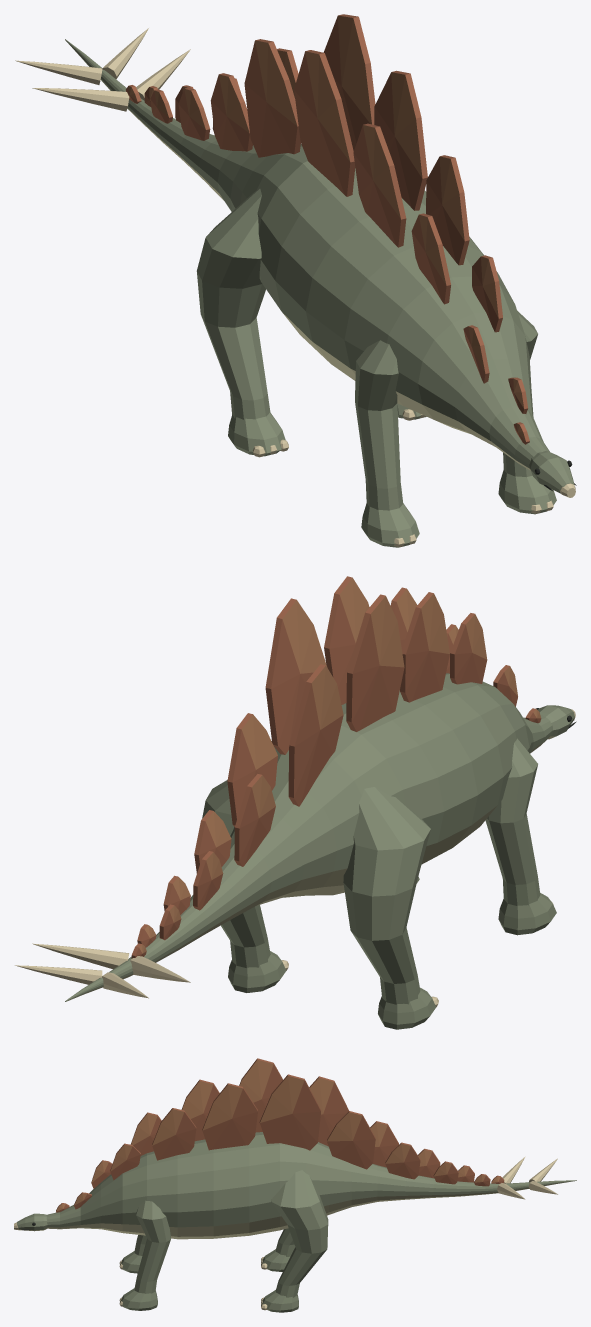
3 views of the same model, one above another, from view 1: azimuth 30°, elevation 25°; view 2: azimuth 150°, elevation 25°; view 3: azimuth 270°, elevation 25° (orthographic). The views are drawn at different scales.
Parts seen in each view (by area): view 1: axial-body-neck-head-tail, nineteen-staggered-dorsal-plates, hind-leg-left, fore-leg-left, four-tail-spikes-beak-and-blunt-toenails, fore-leg-right; view 2: axial-body-neck-head-tail, nineteen-staggered-dorsal-plates, hind-leg-left, fore-leg-left, hind-leg-right, four-tail-spikes-beak-and-blunt-toenails; view 3: axial-body-neck-head-tail, nineteen-staggered-dorsal-plates, hind-leg-right, fore-leg-right, four-tail-spikes-beak-and-blunt-toenails, hind-leg-left, fore-leg-left.
Boxes of the visible parts, bbox=[...] form: axial-body-neck-head-tail: bbox=[65, 39, 574, 493]; nineteen-staggered-dorsal-plates: bbox=[126, 14, 529, 444]; hind-leg-left: bbox=[196, 189, 285, 456]; fore-leg-left: bbox=[355, 340, 419, 547]; four-tail-spikes-beak-and-blunt-toenails: bbox=[15, 28, 575, 547]; fore-leg-right: bbox=[498, 310, 556, 514]; axial-body-neck-head-tail: bbox=[65, 673, 574, 1001]; nineteen-staggered-dorsal-plates: bbox=[131, 576, 541, 958]; hind-leg-left: bbox=[343, 787, 436, 1029]; fore-leg-left: bbox=[485, 738, 556, 935]; hind-leg-right: bbox=[202, 780, 286, 992]; four-tail-spikes-beak-and-blunt-toenails: bbox=[15, 709, 575, 1006]; axial-body-neck-head-tail: bbox=[17, 1132, 576, 1239]; nineteen-staggered-dorsal-plates: bbox=[56, 1058, 504, 1212]; hind-leg-right: bbox=[261, 1170, 328, 1312]; fore-leg-right: bbox=[120, 1200, 170, 1310]; four-tail-spikes-beak-and-blunt-toenails: bbox=[14, 1156, 557, 1310]; hind-leg-left: bbox=[261, 1228, 295, 1271]; fore-leg-left: bbox=[120, 1235, 146, 1273].
Size of the model in its own units: 1.33 by 2.38 by 5.5.
